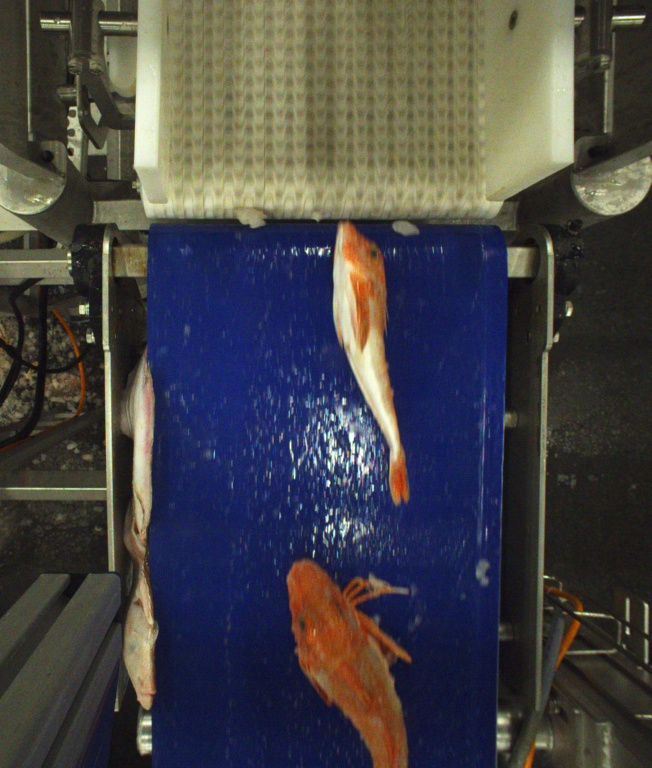GUU: (282, 559, 410, 768)
